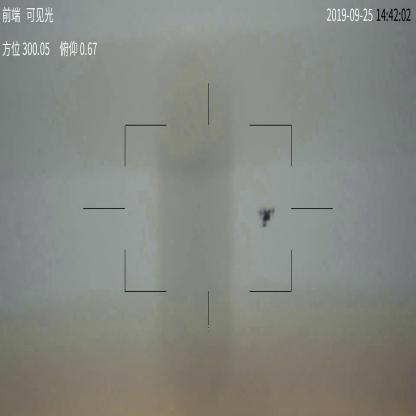uav: (254, 205, 276, 229)
